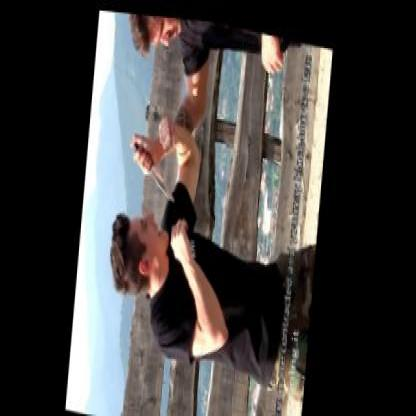knife: (124, 128, 181, 203)
